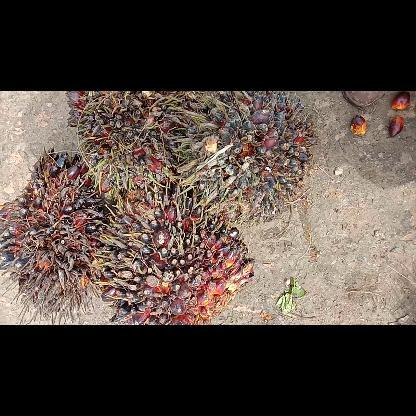TBS abnormal: (102, 186, 252, 324), (0, 148, 109, 311), (194, 92, 314, 220), (66, 92, 199, 194)
